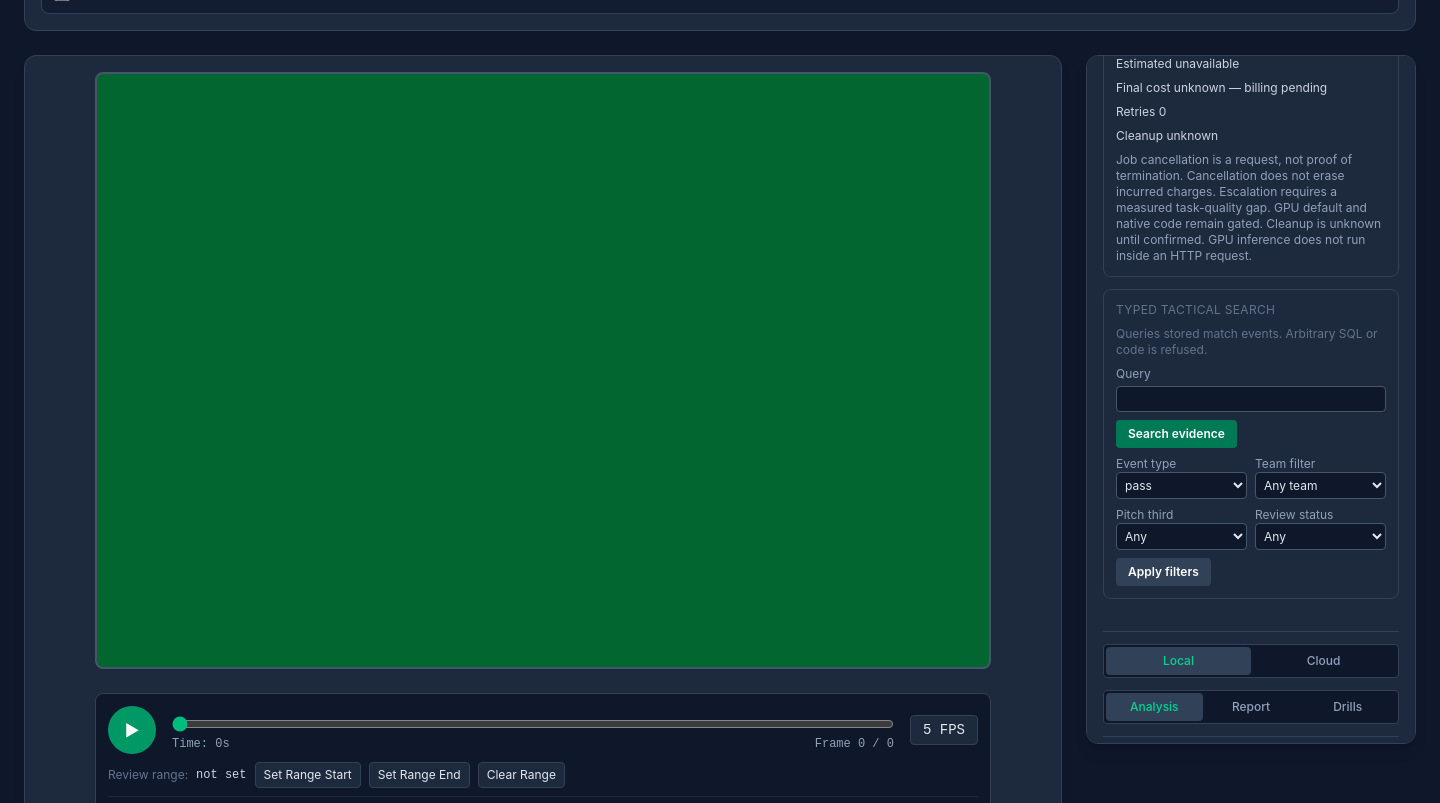
App match workspace loading › runs typed tactical search on stored match events without client-injected rows
(page scrolled)
Type "show our second-half turnovers followed by a shot within 10 seconds" into the field labelled "Query" at [1251, 399], box 1116,386 -> 1386,412
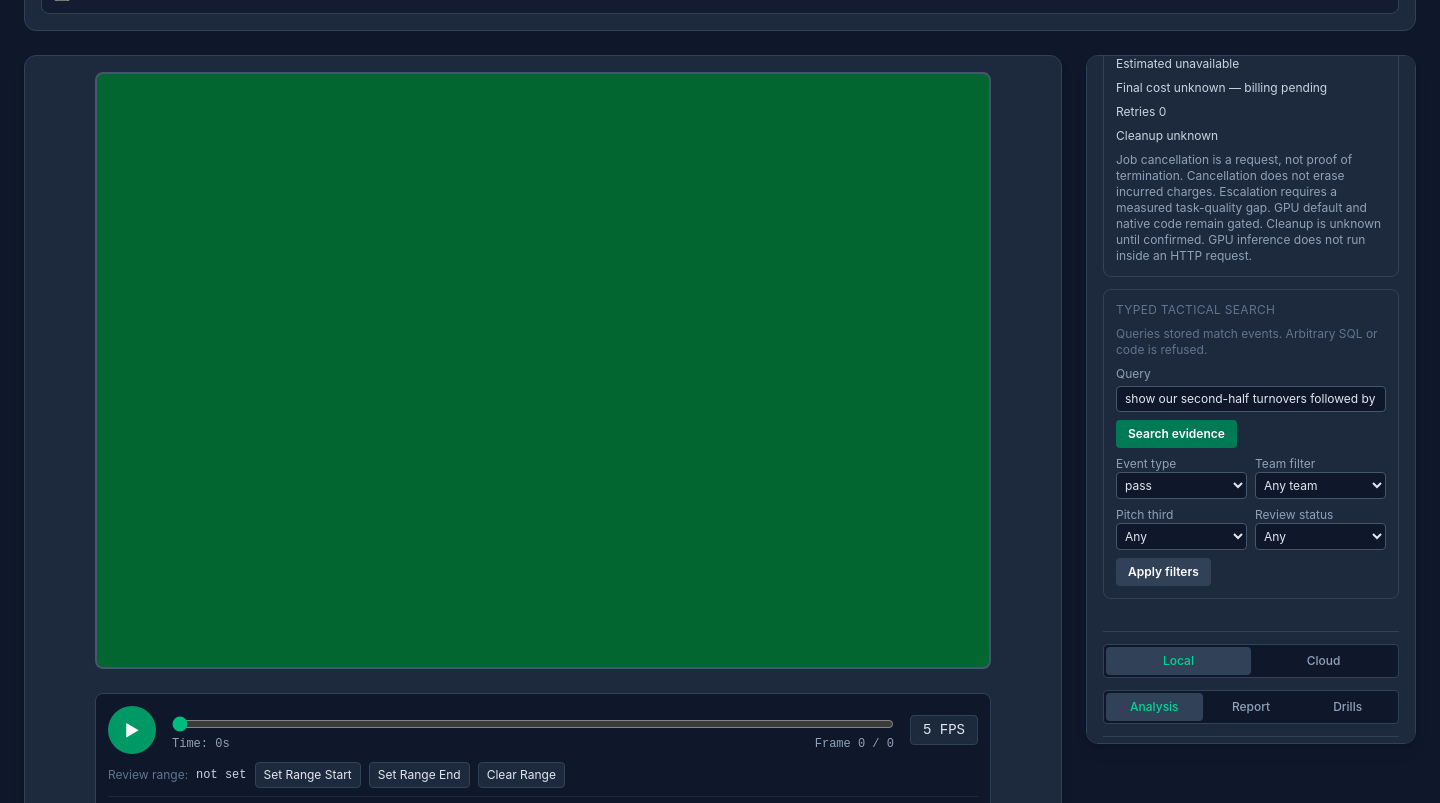
Click the button "Search evidence" at [1176, 434], box 1116,420 -> 1237,448
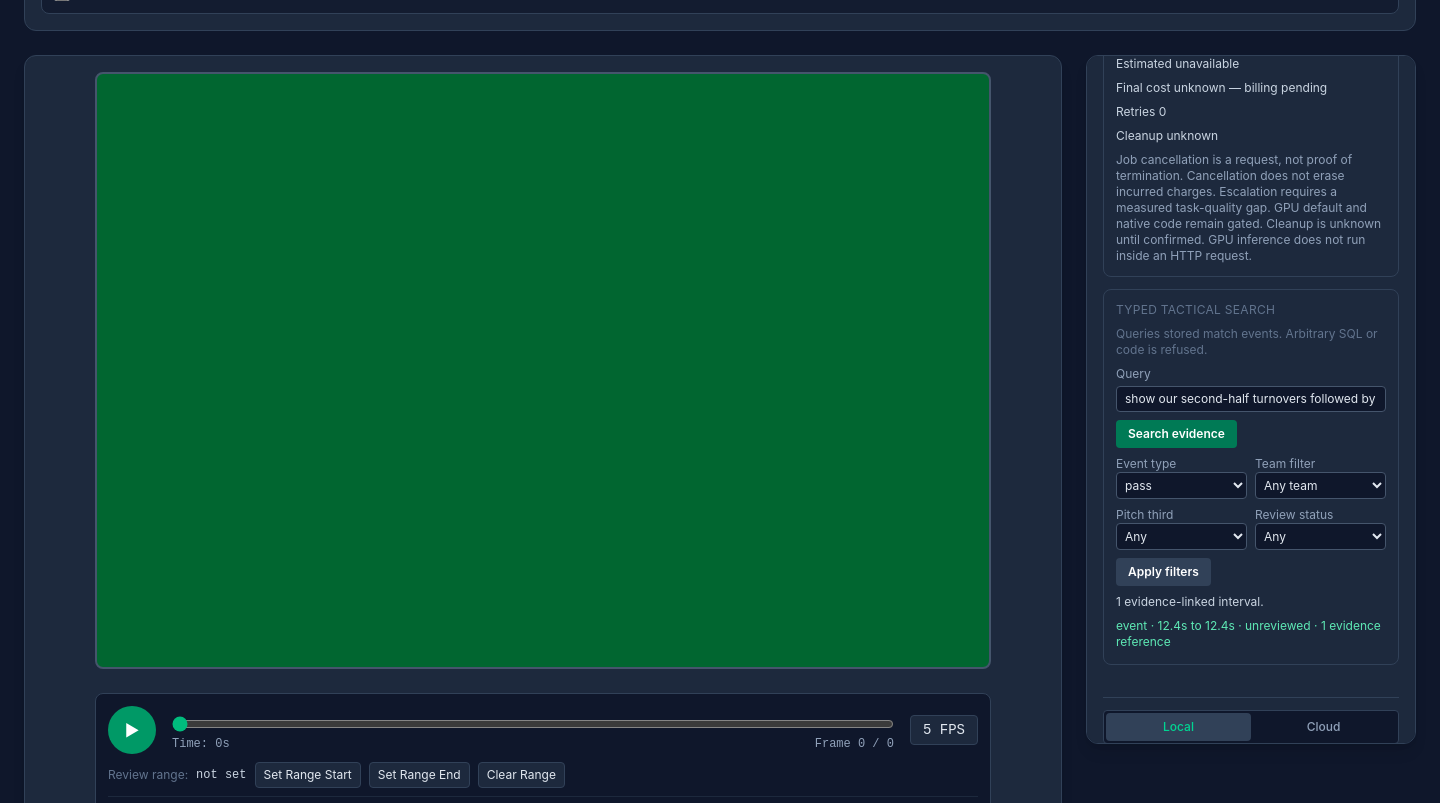
Check: the text "1 evidence-linked interval." is shown, box 1116,594 -> 1264,609
